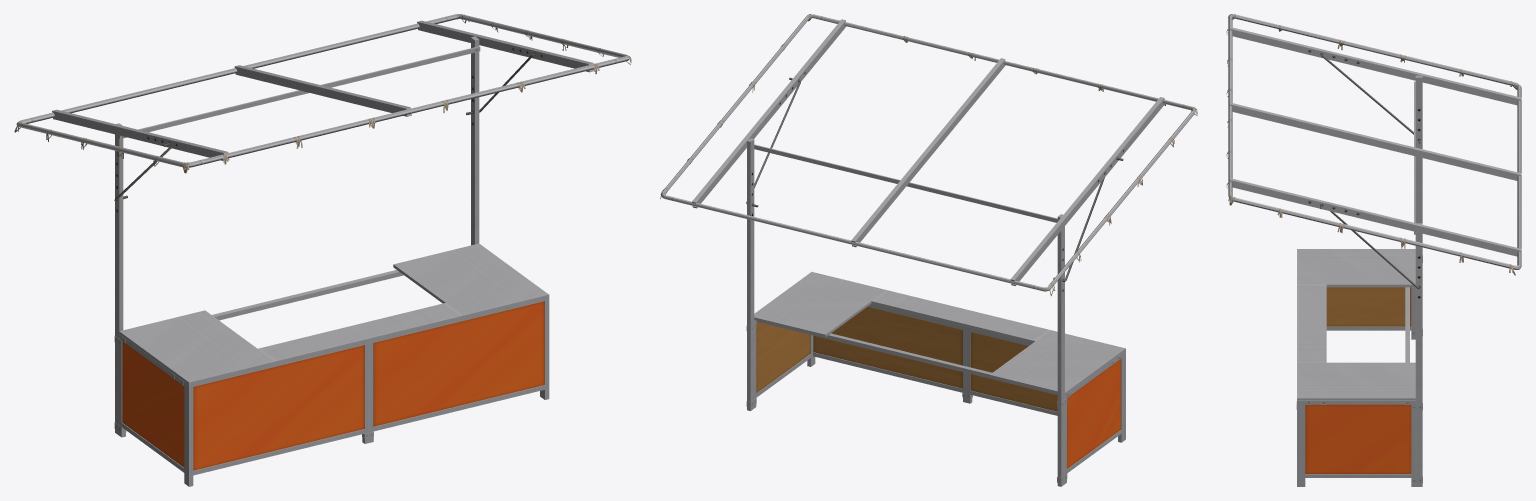
File: jsf_2P_s03_c01_t03.fbx
3 renders of one model, left to right at view 1: azimuth 30°, elevation 25°; view 2: azimuth 150°, elevation 25°; view 3: azimuth 270°, elevation 25°, orthographic. The views are drawn at different scales.
Visible parts, largest first — view 1: Base_s03_c01, Pillar2_s03, Table_2P_s03_t03, Rope_2P_s03; view 2: Base_s03_c01, Pillar2_s03, Table_2P_s03_t03; view 3: Pillar2_s03, Base_s03_c01, Table_2P_s03_t03, Rope_2P_s03.
Part boxes in pixels (<box>): Base_s03_c01: <box>114,294,549,486</box>; Pillar2_s03: <box>16,14,629,435</box>; Table_2P_s03_t03: <box>119,243,547,385</box>; Rope_2P_s03: <box>14,14,631,173</box>; Base_s03_c01: <box>746,271,1125,483</box>; Pillar2_s03: <box>660,14,1196,486</box>; Table_2P_s03_t03: <box>754,272,1125,397</box>; Pillar2_s03: <box>1228,14,1521,486</box>; Base_s03_c01: <box>1296,249,1422,486</box>; Table_2P_s03_t03: <box>1298,249,1415,404</box>; Rope_2P_s03: <box>1226,14,1517,275</box>.
Size of the model in its own units: 316 by 244 by 211.
